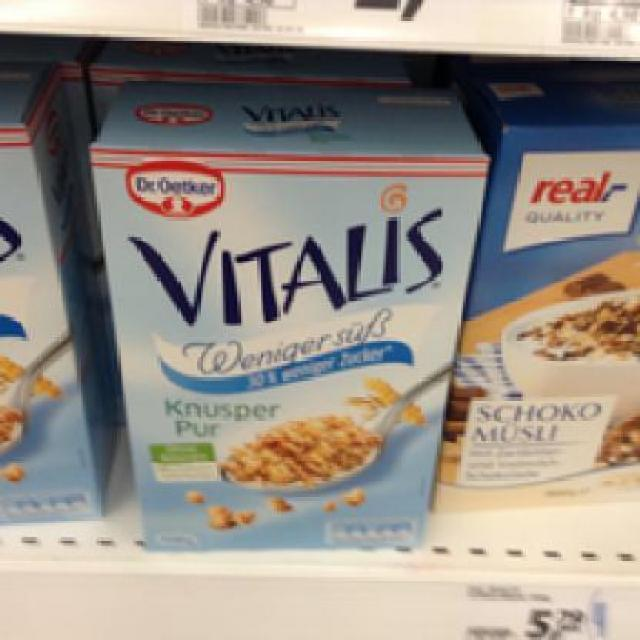Cereal: (86, 71, 483, 548), (442, 80, 638, 523)
